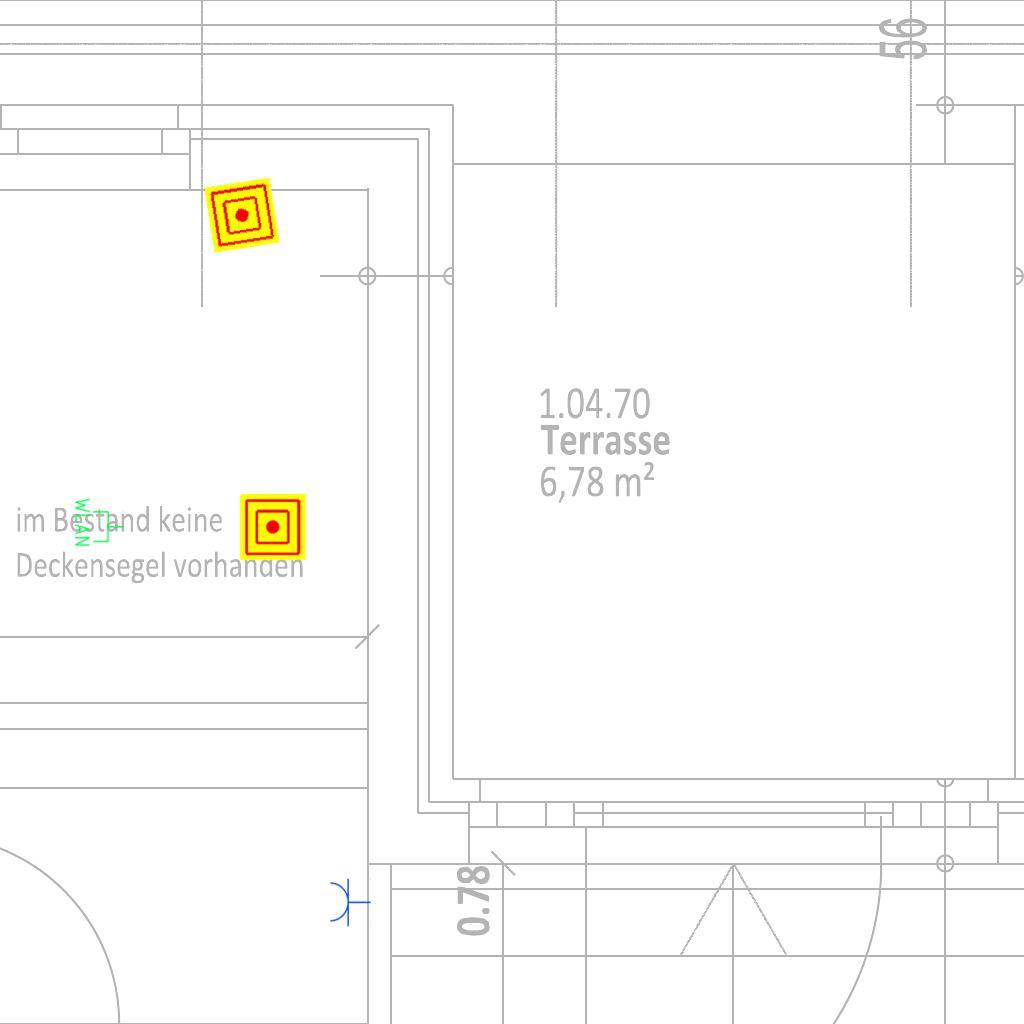NAM-Nichtautomatischer_Melder: (204, 177, 280, 253), (240, 494, 306, 560)
Schukosteckdose_einfach: (328, 877, 371, 927)
WLAN: (73, 496, 125, 548)
